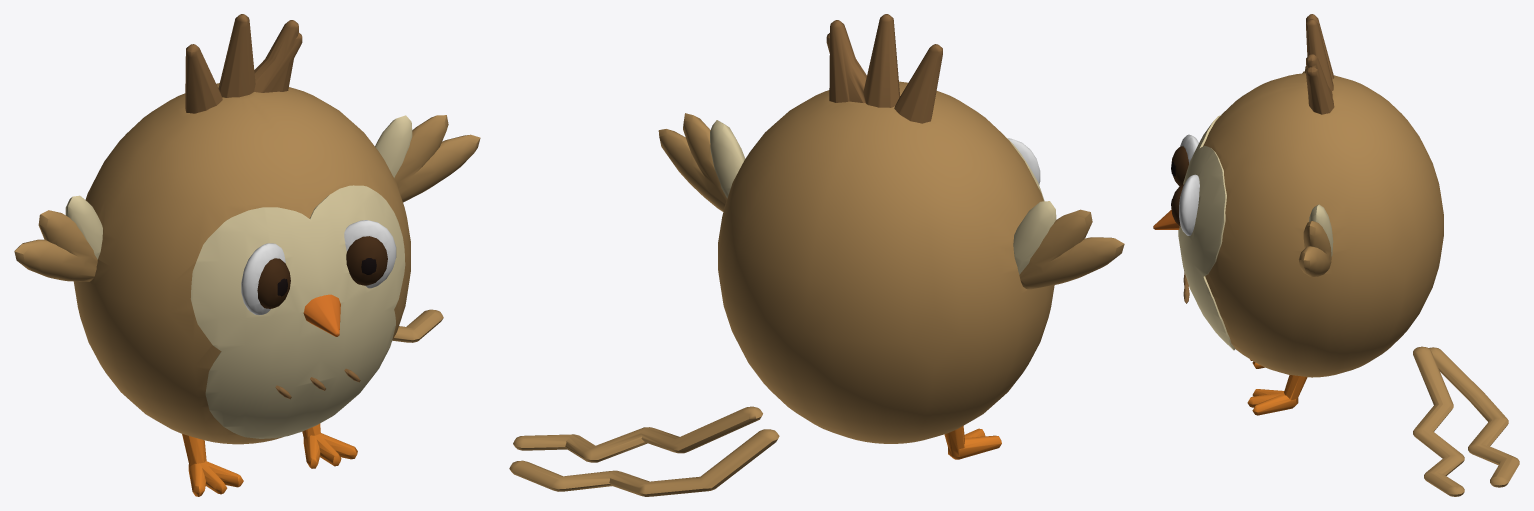
Rendered from puffinch.glb.
3 views of the same model, side by side, from view 1: azimuth 30°, elevation 25°; view 2: azimuth 150°, elevation 25°; view 3: azimuth 270°, elevation 25° (orthographic). The views are drawn at different scales.
Visible parts, largest first — view 1: creature; view 2: creature; view 3: creature.
Boxes of the visible parts, x1,y1,x2,y2 form: creature: [14, 14, 480, 496]; creature: [509, 14, 1124, 496]; creature: [1153, 14, 1519, 496].
Size of the model in its own units: 1.24 by 1 by 0.9122.
